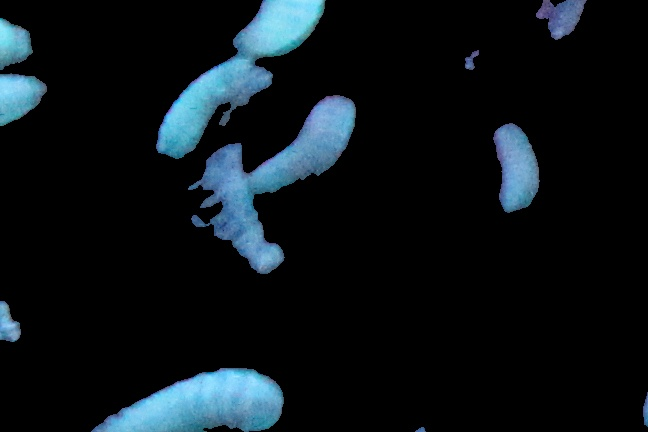larvae: (82, 365, 290, 432), (154, 51, 275, 162), (189, 142, 284, 275), (246, 96, 350, 189), (482, 117, 542, 224), (230, 1, 328, 62)
